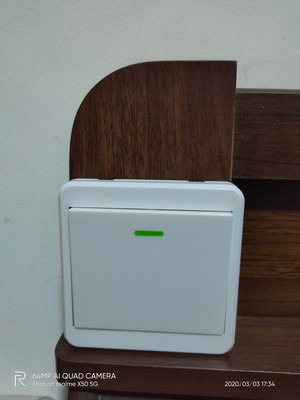switch: (64, 203, 228, 339)
